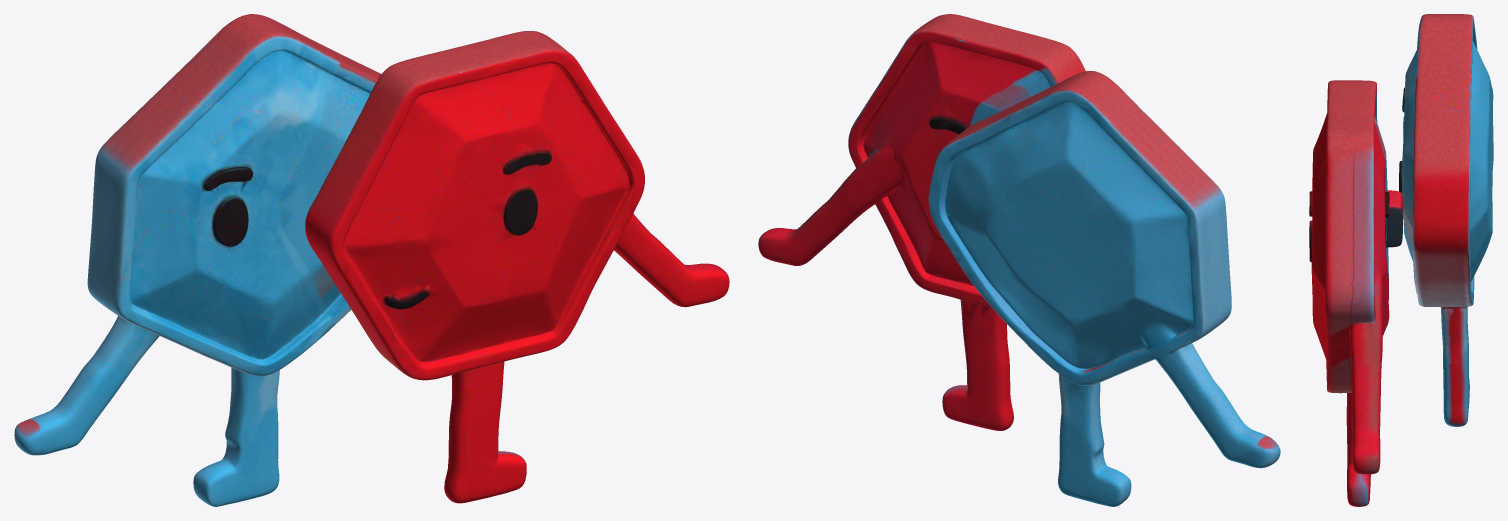
File: grace-dice.glb
3 renders of one model, left to right at view 1: azimuth 30°, elevation 25°; view 2: azimuth 150°, elevation 25°; view 3: azimuth 270°, elevation 25°, orthographic. The views are drawn at different scales.
Visible parts, largest first — view 1: Mesh_0.001; view 2: Mesh_0.001; view 3: Mesh_0.001.
Boxes of the visible parts, box(x1,y1,x2,y2) form: Mesh_0.001: box(14, 14, 729, 506); Mesh_0.001: box(758, 14, 1280, 506); Mesh_0.001: box(1309, 14, 1493, 506).
Size of the model in its own units: 0.2143 by 0.15 by 0.0615.
Materials: 1 (1 with a texture image).
